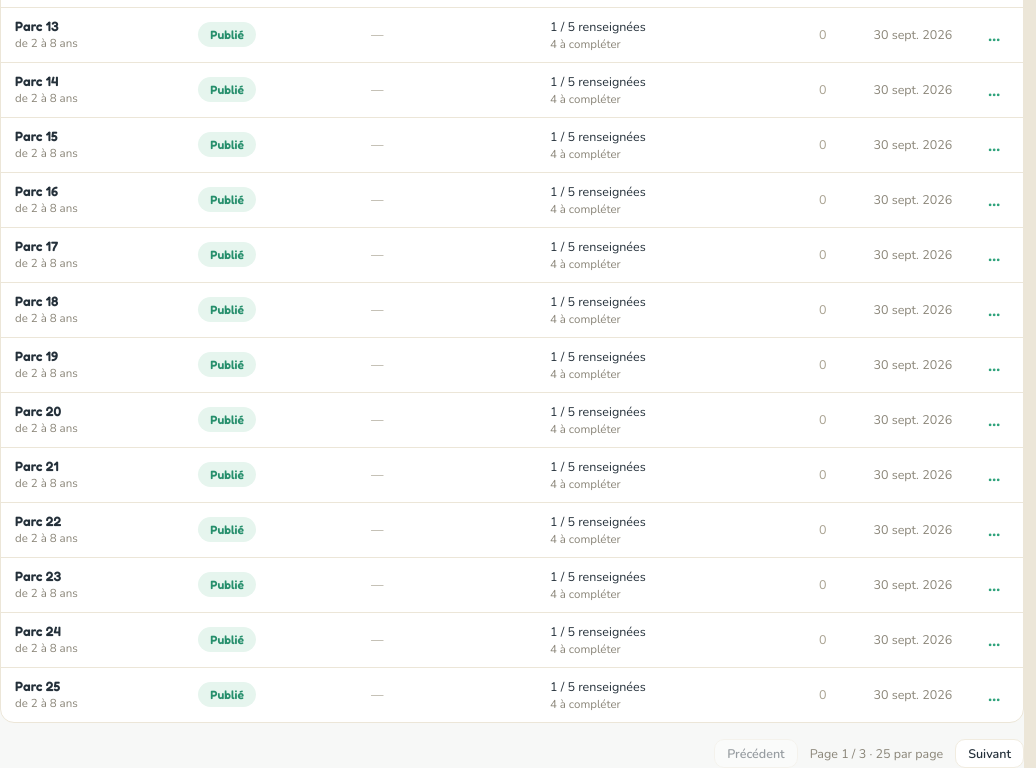
Test case: CommuneParks — Mes parcs (COLL-03B) › many parcs → paginated client-side
(page scrolled)
Click the button "Suivant": {"x": 990, "y": 753} x1=955 y1=738 x2=1024 y2=767
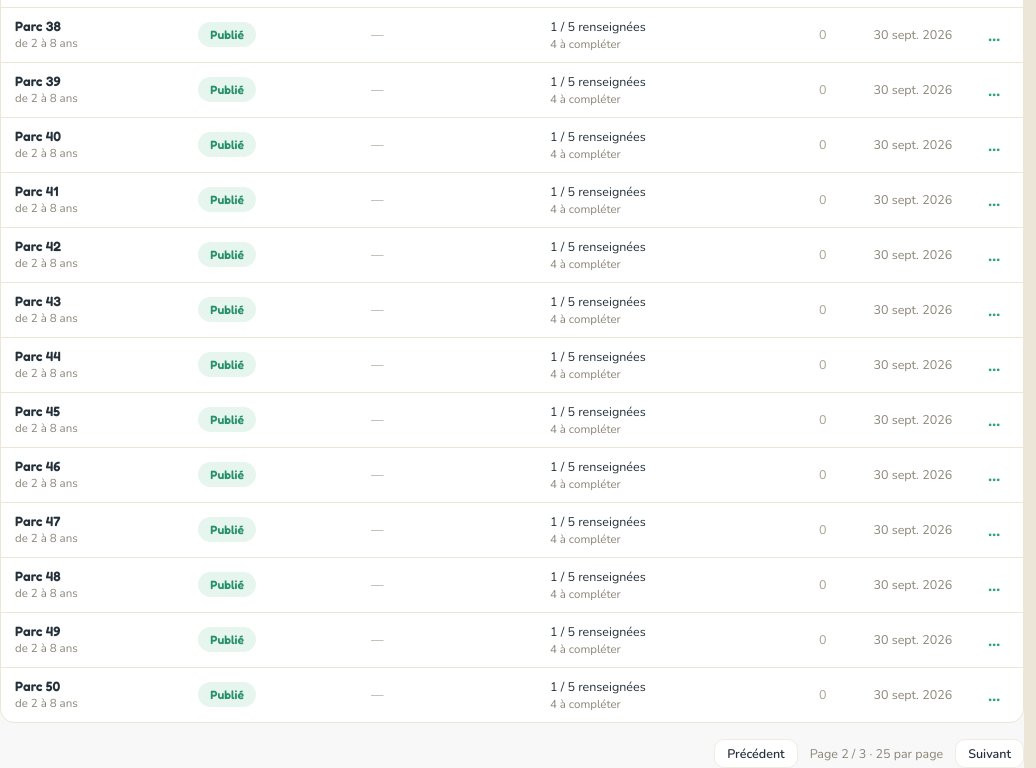
Now the text "Page 2 / 3 · 25 par page" is shown, box x1=810 y1=744 x2=943 y2=762
